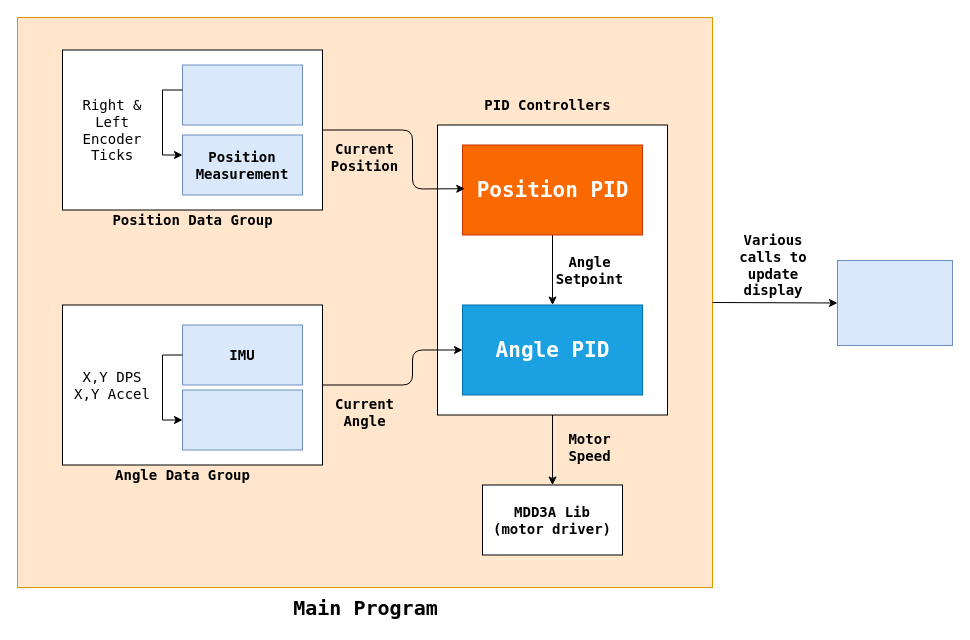
This 970x640 diagram has some shape labels left out. The shapes that lost their labels are listed below. From the top down, each one's box as (x1, y1, x2, y2) in pixels, then its label:
(182, 64, 302, 125): Encoder Class
(836, 260, 952, 346): External Display Library
(182, 389, 302, 450): Angle Measurement
